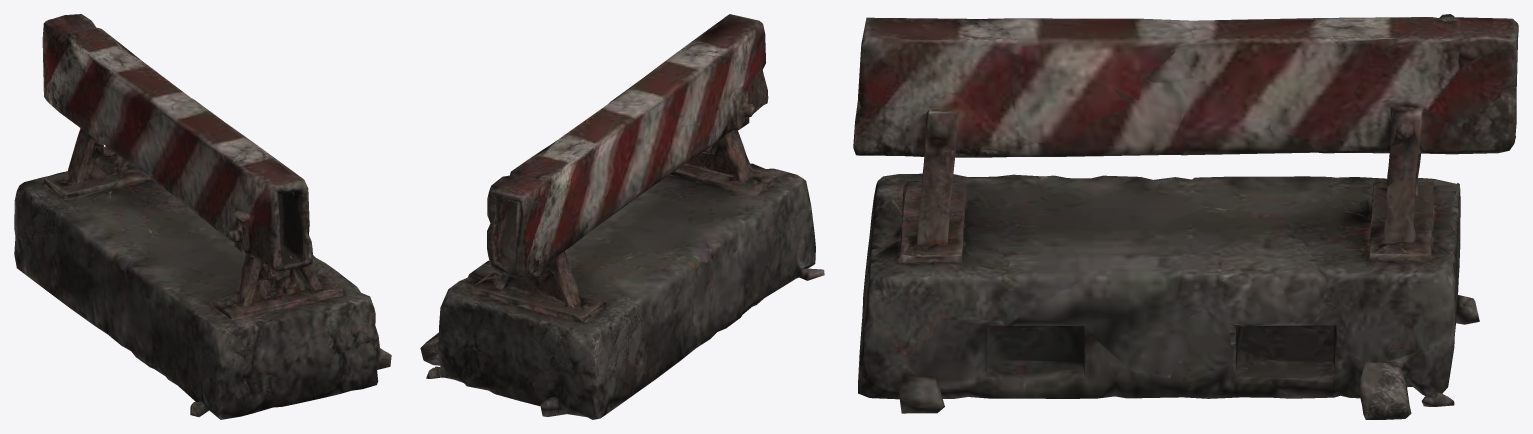
The model's file is blockset_a0.glb.
3 renders of one model, left to right at view 1: azimuth 30°, elevation 25°; view 2: azimuth 150°, elevation 25°; view 3: azimuth 270°, elevation 25°, orthographic. The views are drawn at different scales.
Bounding box in the file's own units: 57.35 × 57.57 × 111.
1 material, 1 textured.
